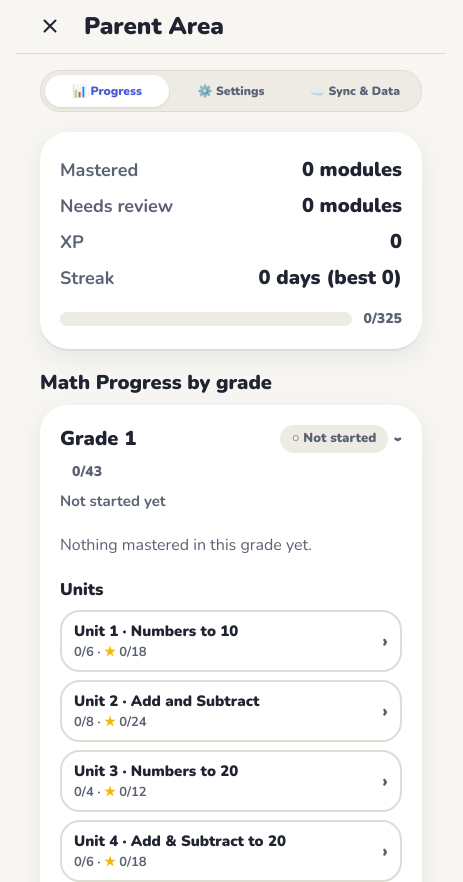
Parent Area — versi app dan tombol cek update › sudah terbaru: dijawab terang
Click the button "⚙️ Settings" at (231, 91), box [169, 75, 293, 107]
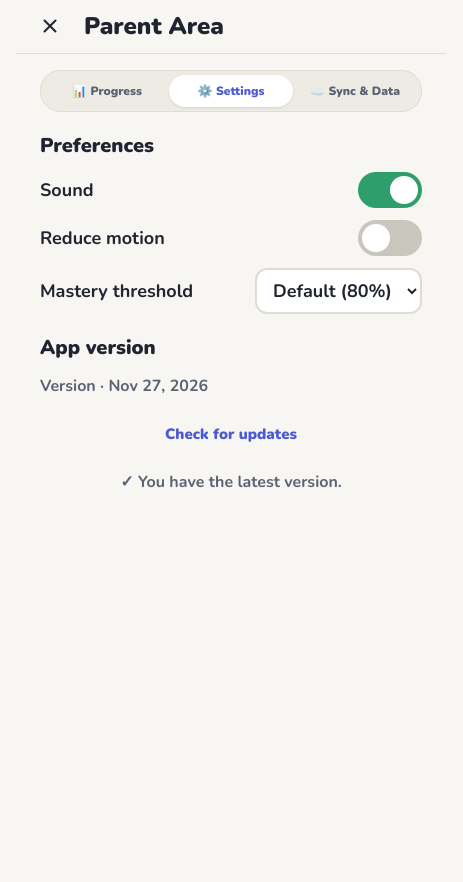
Expected: the message shows "You have the latest version.", [120, 471, 342, 493]
